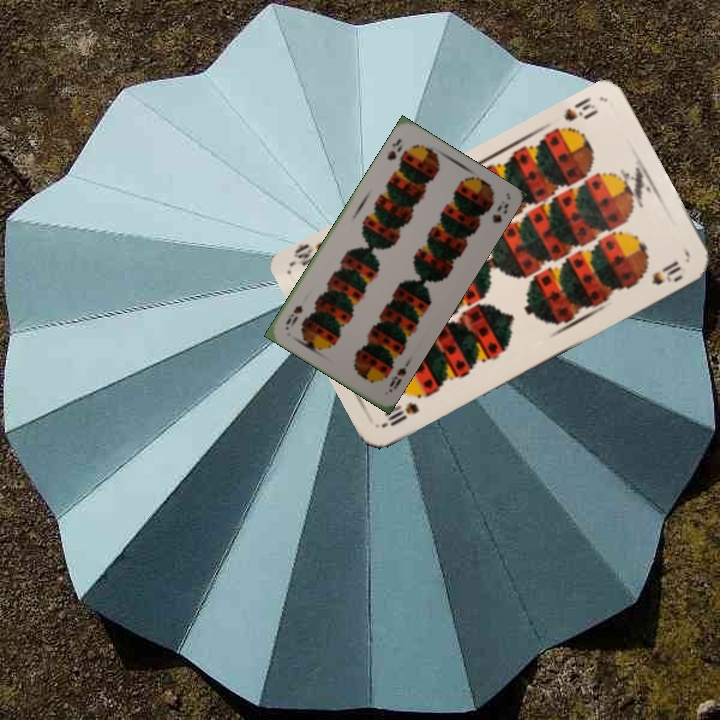S10: (379, 398, 422, 430), (560, 93, 601, 124)
S8: (383, 134, 406, 163), (385, 363, 409, 390)
